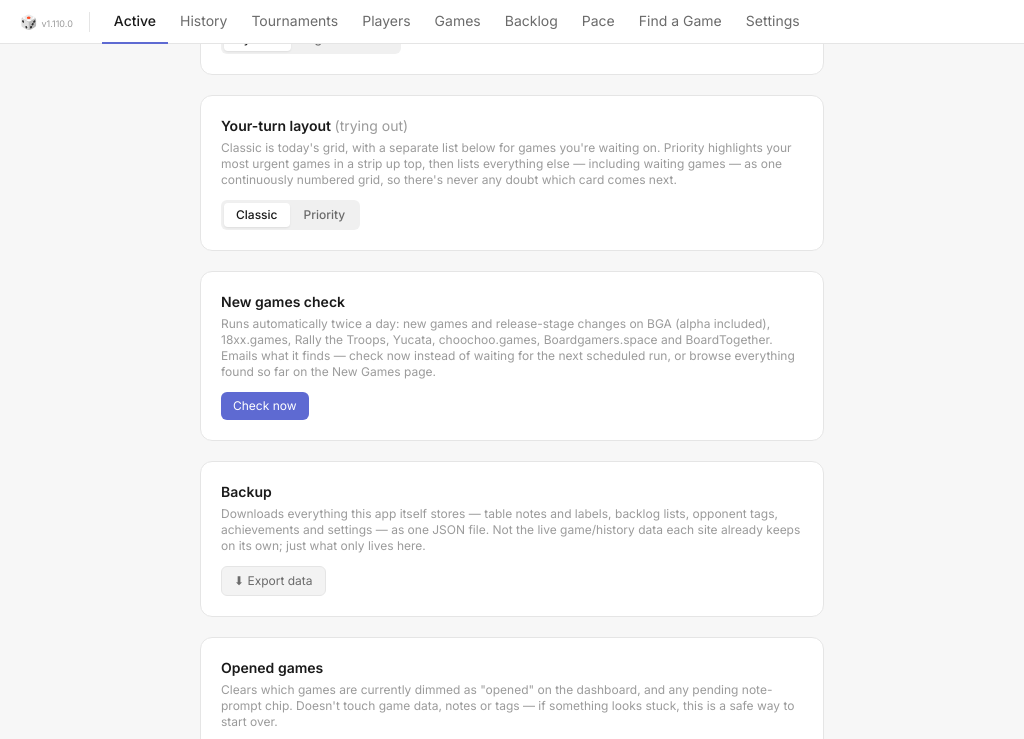
Test case: Setup page: New games check › says so when nothing new was found
The image size is (1024, 739).
(page scrolled)
Click the button "Check now" at (265, 406), box [221,392,309,420]
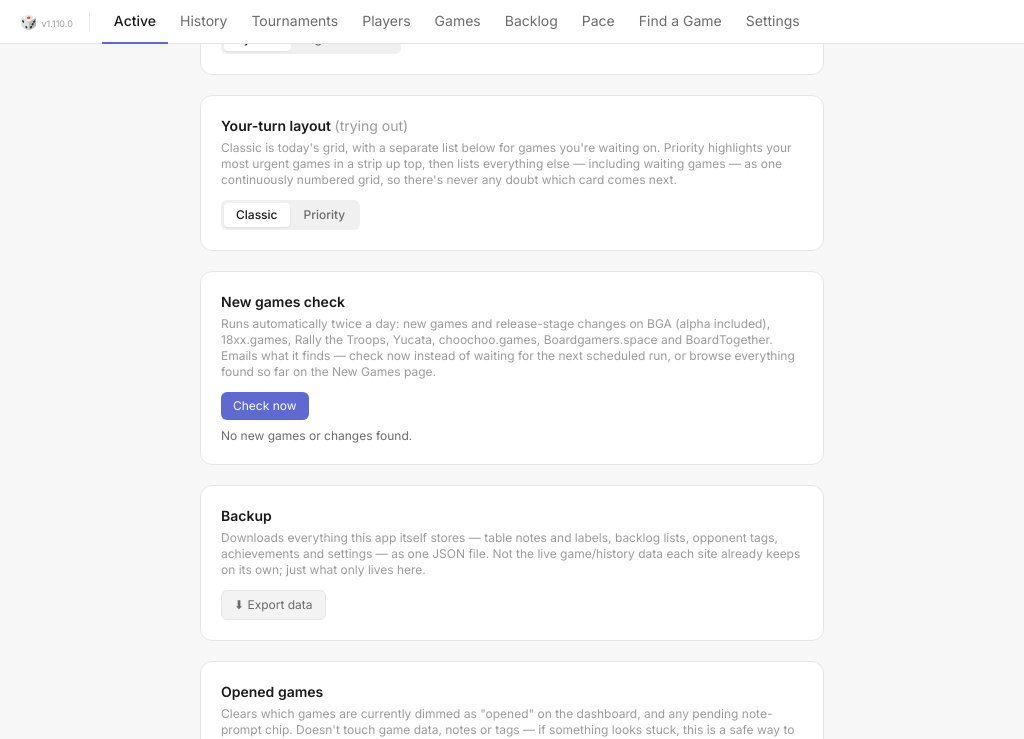
Expected: the text "No new games or changes found." is shown, [221,428,412,443]
